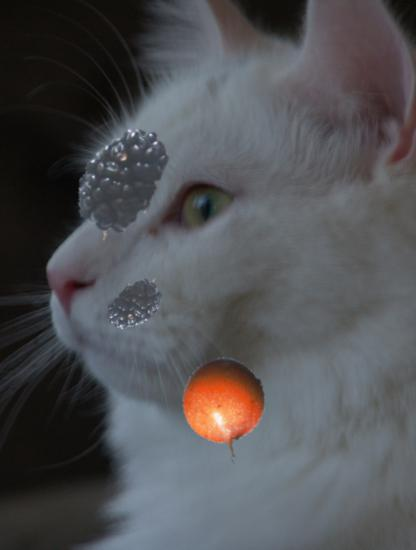Granadilla: (174, 357, 282, 465)
Mulberry: (47, 117, 169, 239), (109, 276, 175, 342)
